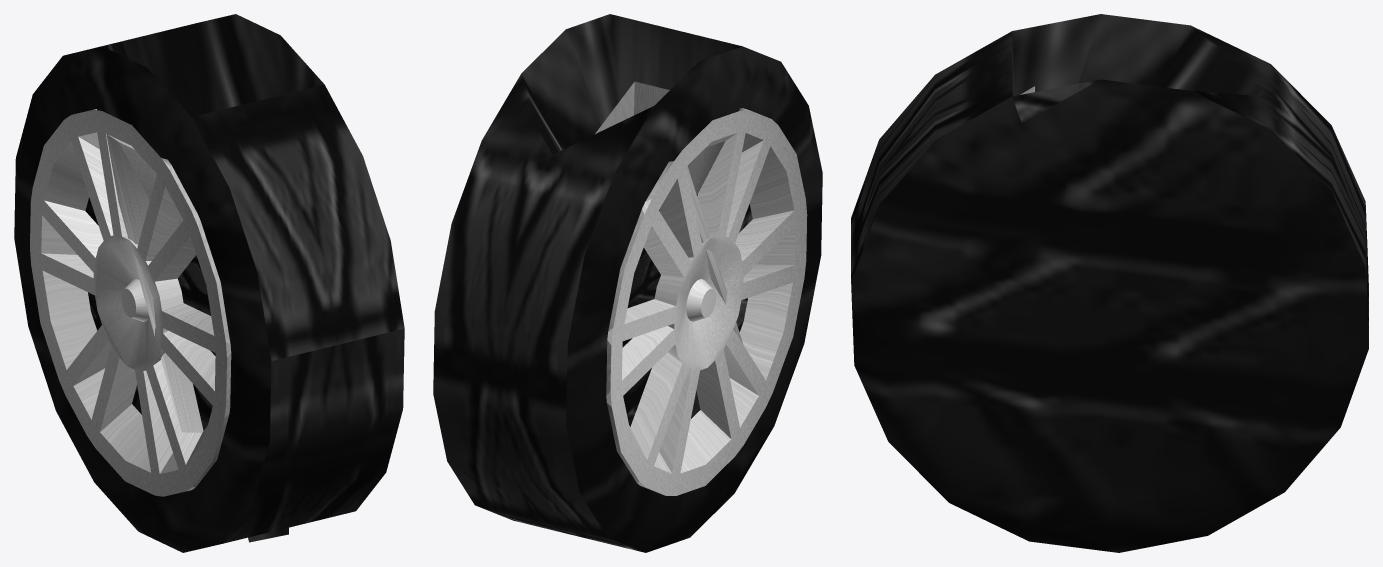
The model's file is llanta_derecha1.obj.
The picture shows the model from 3 angles, left to right: view 1: azimuth 30°, elevation 25°; view 2: azimuth 150°, elevation 25°; view 3: azimuth 270°, elevation 25°; orthographic projection.
Visible parts, largest first — view 1: BL_Wheel.001_Plastic.003, BL_Wheel_Rims.003, BL_Wheel_Plastic.003, BL_Wheel.001_Rims.003; view 2: BL_Wheel.001_Plastic.003, BL_Wheel_Rims.003, BL_Wheel.001_Rims.003, BL_Wheel_Plastic.003; view 3: BL_Wheel.001_Plastic.003, BL_Wheel_Plastic.003.
Part boxes in pixels (box(x1,y1,x2,y2)): BL_Wheel.001_Plastic.003: box(14, 14, 404, 552); BL_Wheel_Rims.003: box(30, 109, 231, 496); BL_Wheel_Plastic.003: box(85, 197, 215, 430); BL_Wheel.001_Rims.003: box(94, 109, 231, 487); BL_Wheel.001_Plastic.003: box(433, 14, 822, 552); BL_Wheel_Rims.003: box(606, 81, 807, 495); BL_Wheel.001_Rims.003: box(595, 82, 735, 495); BL_Wheel_Plastic.003: box(622, 194, 752, 426); BL_Wheel.001_Plastic.003: box(851, 14, 1368, 552); BL_Wheel_Plastic.003: box(1012, 79, 1099, 122).
Bounding box in the file's own units: 0.2095 × 0.5966 × 0.5912.
2 materials, 2 textured.
